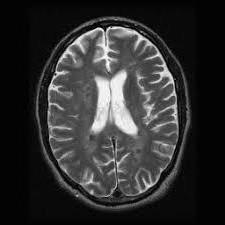Normal_Brain: (23, 1, 225, 225)
